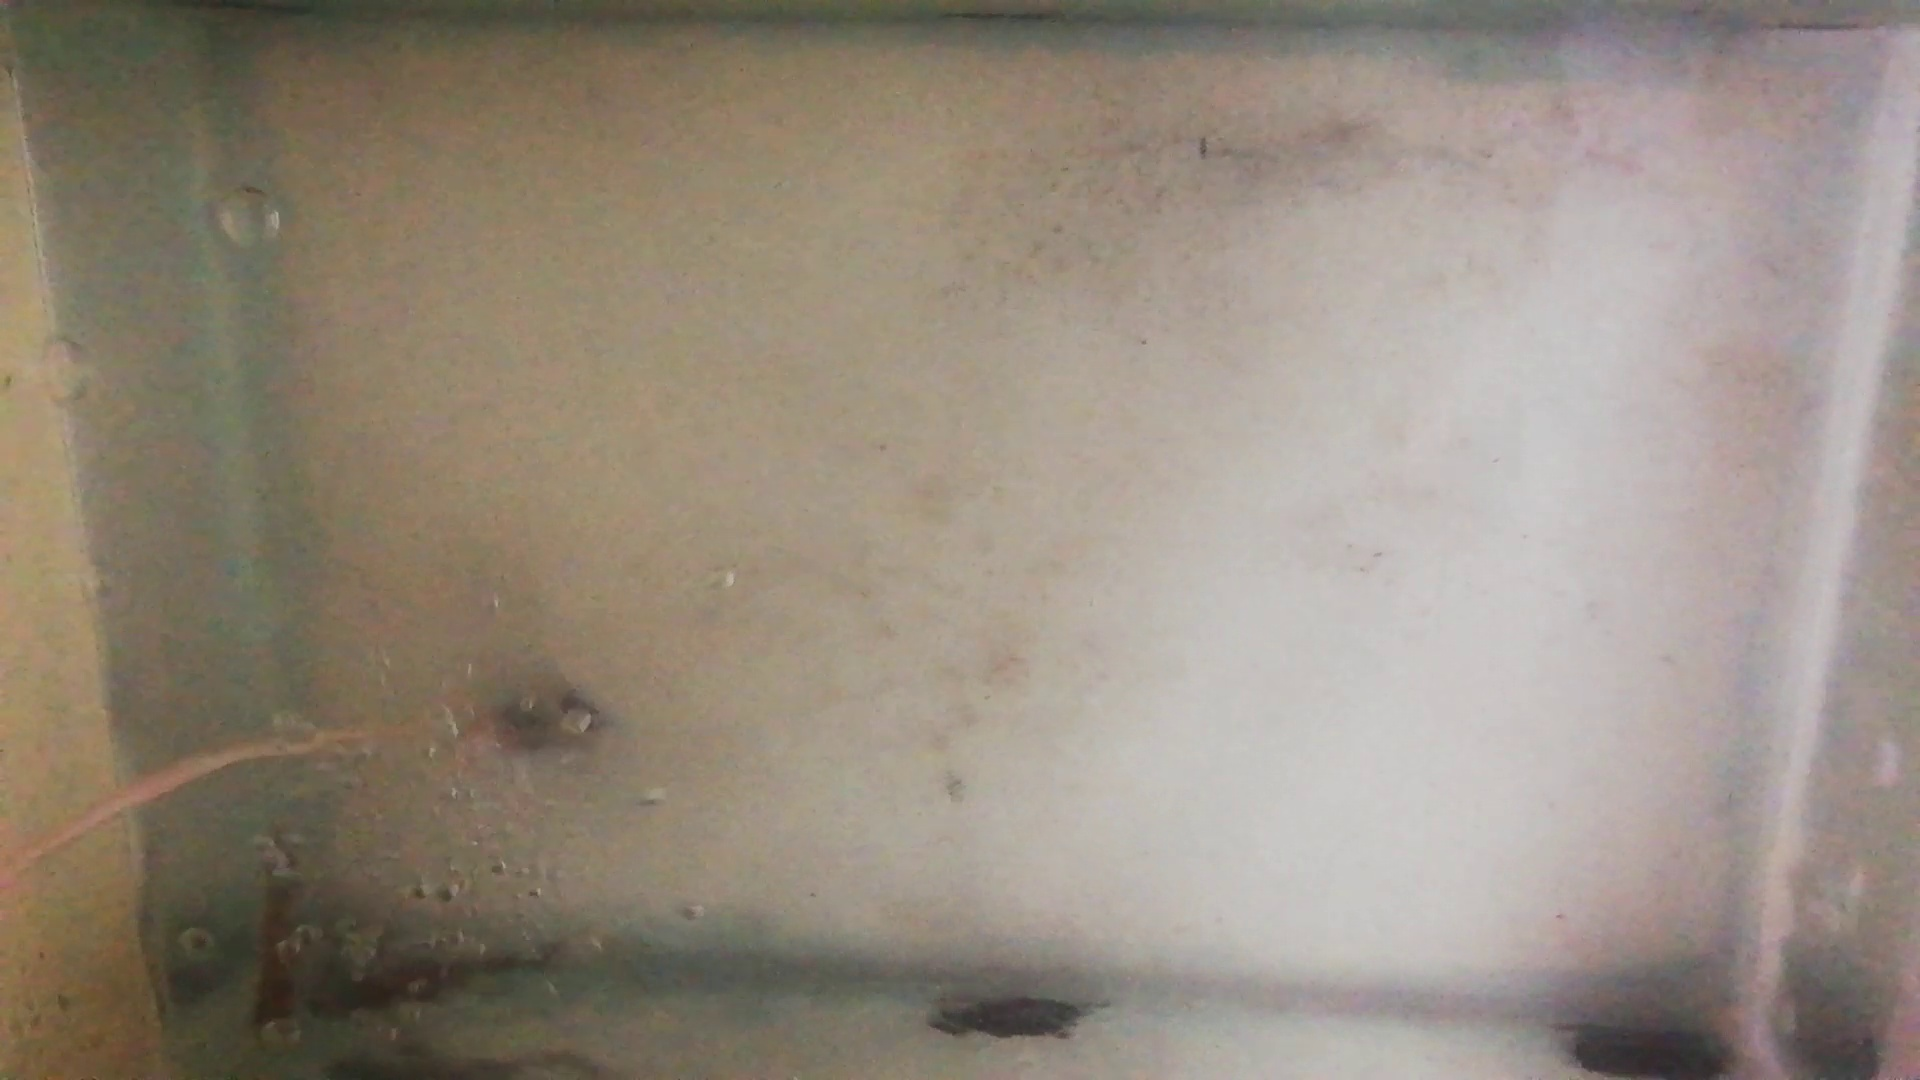fish: (320, 945, 546, 1019), (255, 843, 302, 1033)
